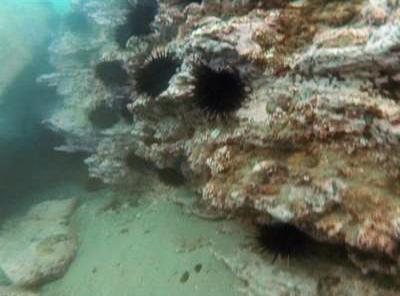urchin: (191, 65, 250, 116), (253, 217, 309, 265), (136, 50, 181, 95), (125, 1, 162, 32), (93, 57, 128, 86), (88, 100, 119, 131), (157, 165, 185, 190), (115, 94, 137, 123)
